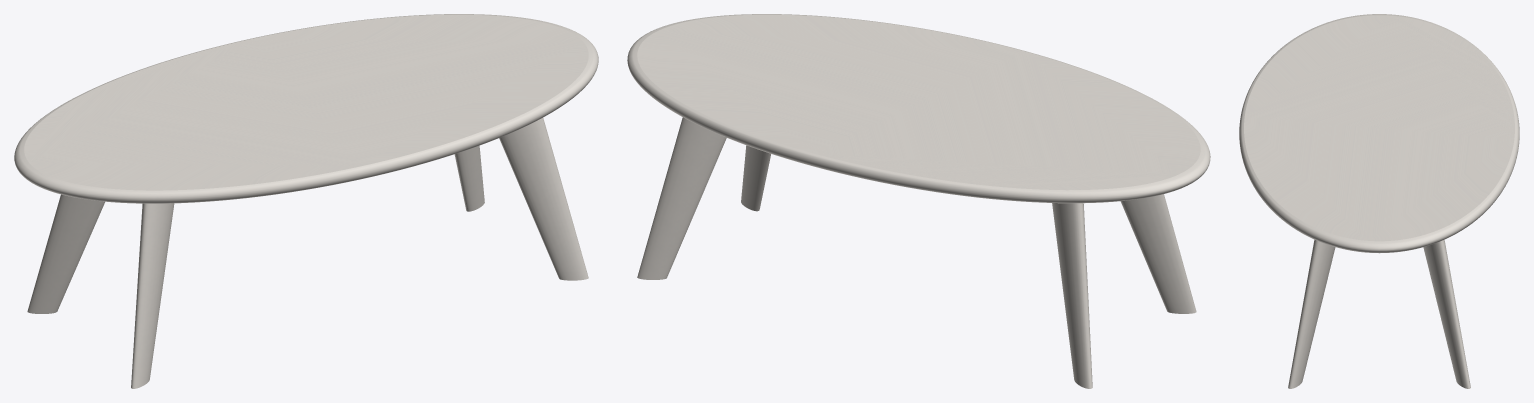
Rendered from pearlwhite_ellips_round_ferdinantwalnut.glb.
3 renders of one model, left to right at view 1: azimuth 30°, elevation 25°; view 2: azimuth 150°, elevation 25°; view 3: azimuth 270°, elevation 25°, orthographic. The views are drawn at different scales.
Parts seen in each view (by area): view 1: tabletop_ellips_round.009, tableleg_ferdinandwalnut.002; view 2: tabletop_ellips_round.009, tableleg_ferdinandwalnut.002; view 3: tabletop_ellips_round.009, tableleg_ferdinandwalnut.002.
Boxes of the visible parts, box(x1,y1,x2,y2) form: tabletop_ellips_round.009: box(14, 14, 598, 203); tableleg_ferdinandwalnut.002: box(27, 117, 588, 388); tabletop_ellips_round.009: box(627, 14, 1210, 203); tableleg_ferdinandwalnut.002: box(637, 117, 1196, 388); tabletop_ellips_round.009: box(1239, 14, 1519, 253); tableleg_ferdinandwalnut.002: box(1288, 239, 1470, 388).
Size of the model in its own units: 7.5 by 2.47 by 3.8.
1 material, 1 textured.
